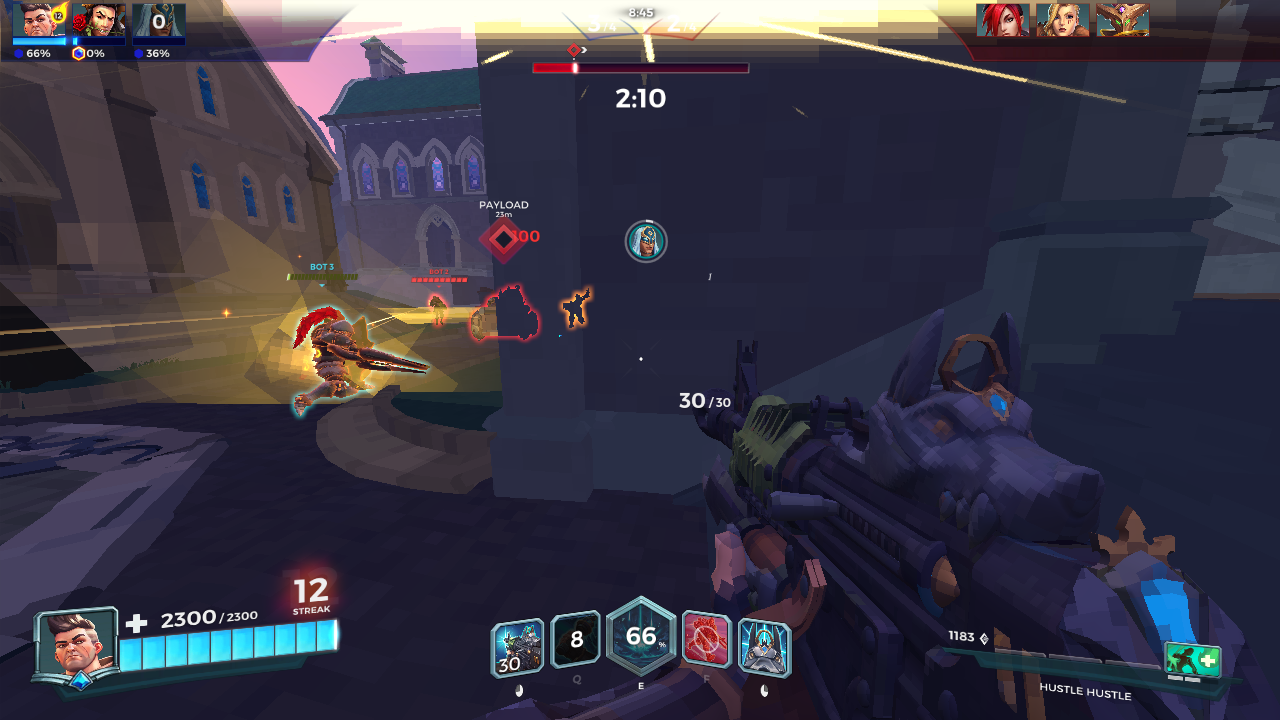model: (562, 289, 587, 332), (423, 289, 448, 325)
